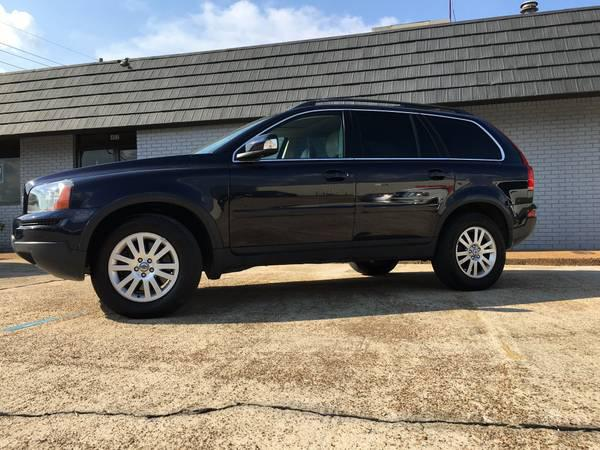volvo: (8, 87, 580, 332)
